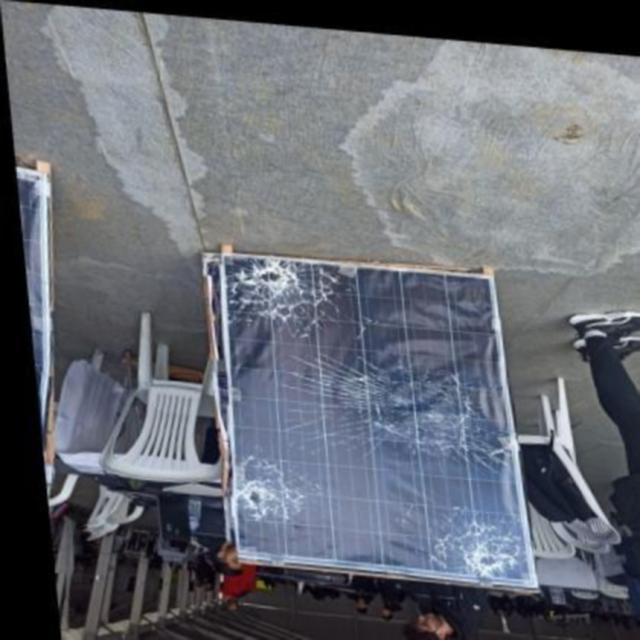cracked: (207, 258, 524, 594)
